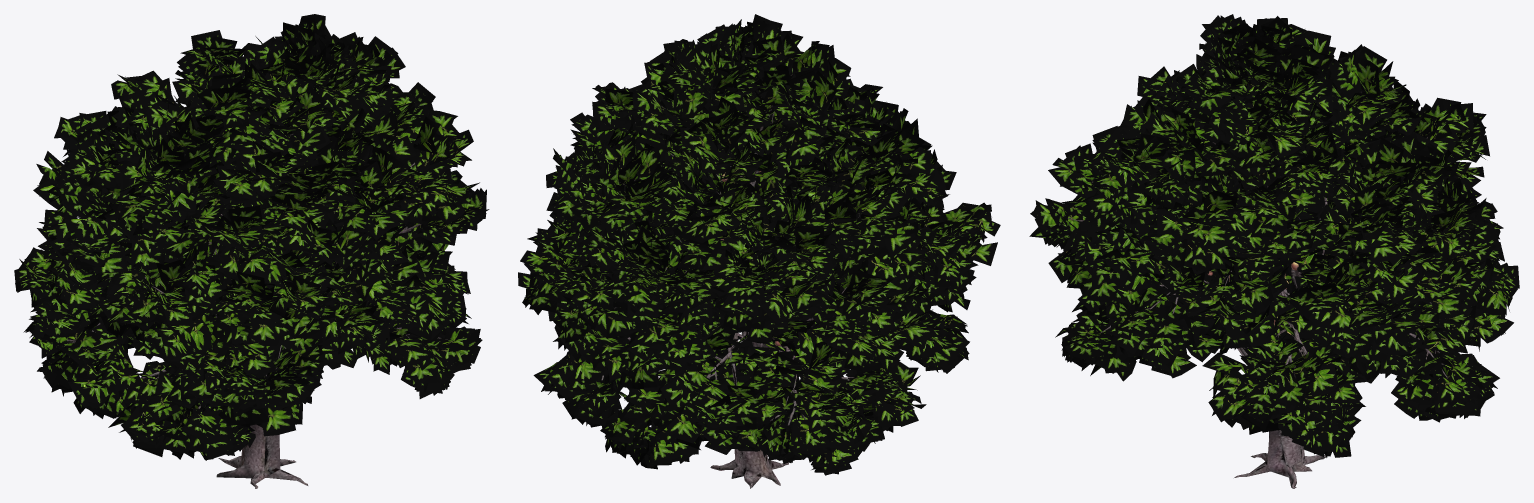
File: mango.glb
The picture shows the model from 3 angles, left to right: view 1: azimuth 30°, elevation 25°; view 2: azimuth 150°, elevation 25°; view 3: azimuth 270°, elevation 25°; orthographic projection. The views are drawn at different scales.
Visible parts, largest first — view 1: leaves, tree; view 2: leaves, tree; view 3: leaves, tree.
Boxes of the visible parts, bbox=[...] form: leaves: bbox=[14, 14, 489, 460]; tree: bbox=[50, 65, 448, 488]; leaves: bbox=[518, 14, 1000, 475]; tree: bbox=[572, 68, 904, 488]; leaves: bbox=[1029, 14, 1519, 457]; tree: bbox=[1068, 92, 1450, 488].
Bounding box in the file's own units: 6.69 × 6.86 × 6.76.
3 materials, 3 textured.
